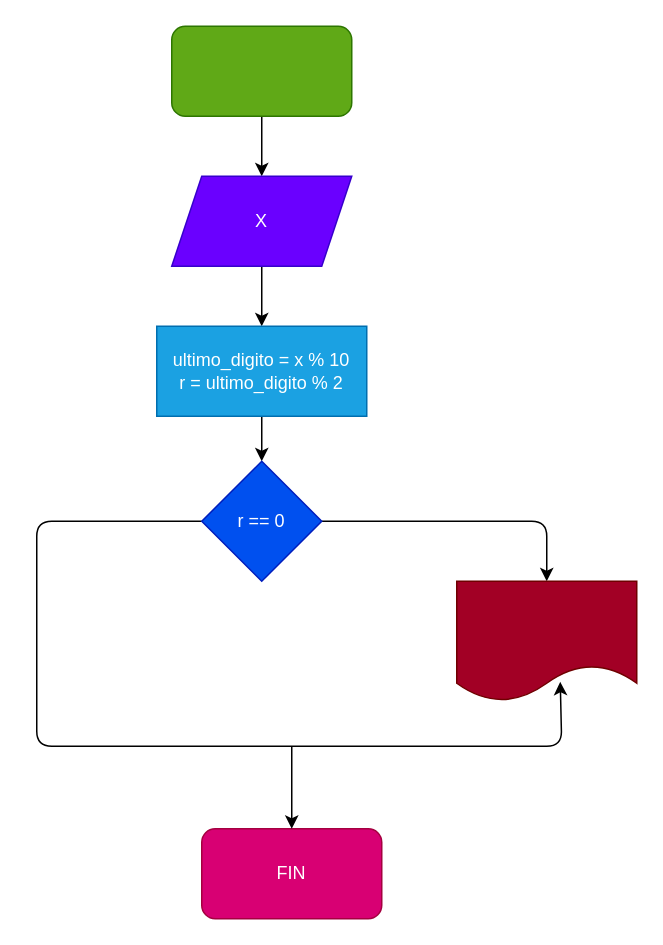
This 663x945 diagram has some shape labels left out. The box of each missing label's shape, as (x1, y1, x2, y2) in pixels:
INICIO: (170, 25, 352, 116)
ULTIMO DIGITO ES PAR: (455, 580, 637, 701)
